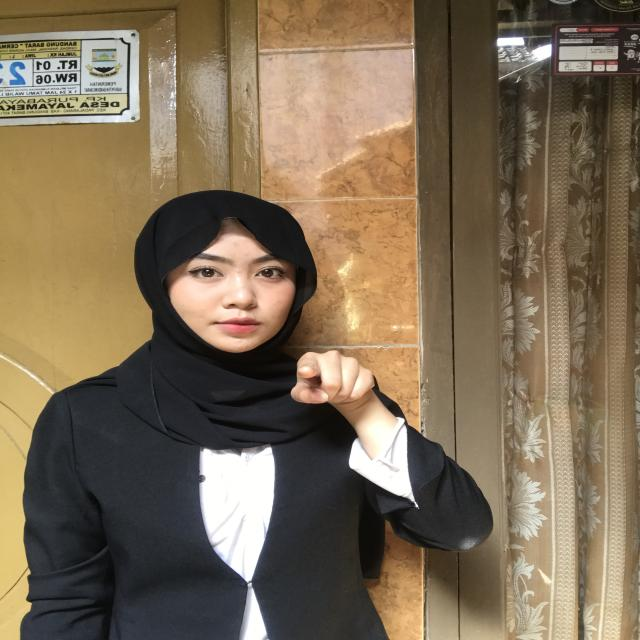kamu: (265, 334, 393, 422)
